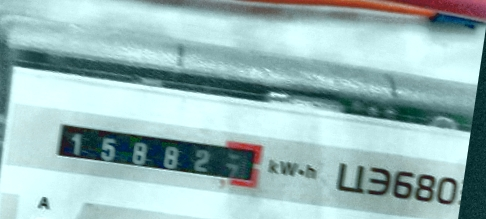1: (67, 130, 84, 157)
2: (192, 145, 211, 173)
5: (97, 135, 117, 162)
7: (222, 160, 239, 177)
8: (128, 139, 149, 165), (160, 142, 180, 169)
screen: (41, 107, 273, 199)
